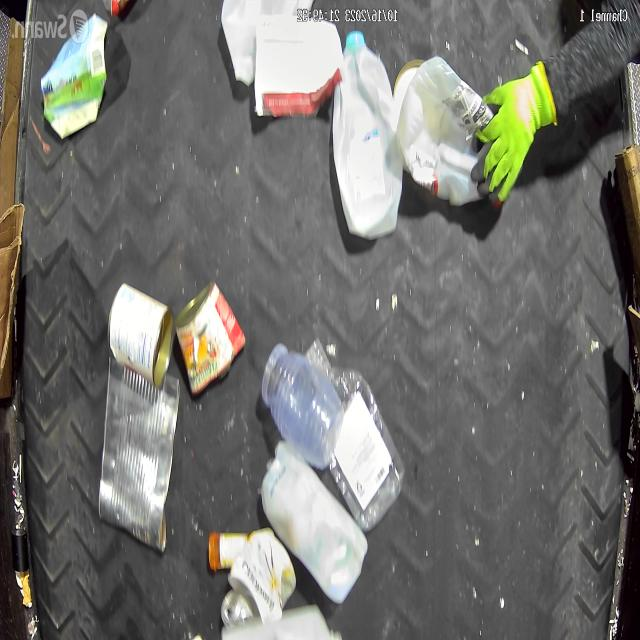can: (97, 352, 181, 556), (174, 277, 247, 398), (105, 281, 176, 387), (226, 523, 298, 625), (219, 588, 253, 628)
milk_jug: (259, 436, 369, 607), (331, 30, 404, 241), (396, 54, 495, 208), (220, 0, 314, 91)
plastic_bottle: (302, 336, 406, 532)
